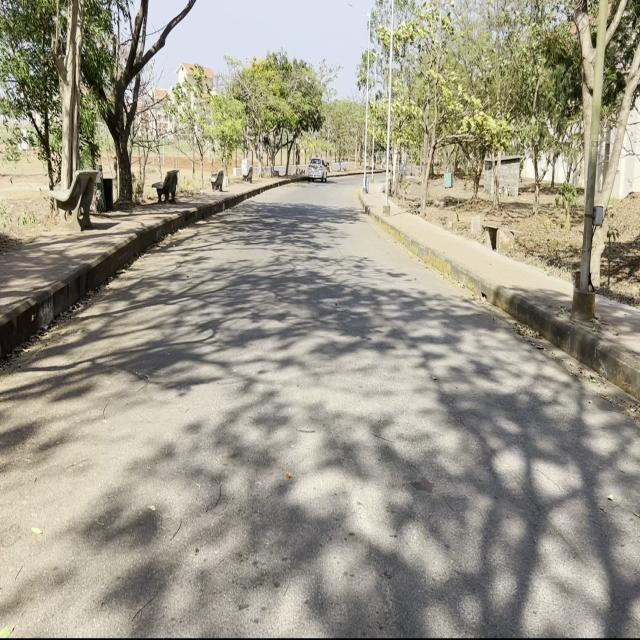Object: (307, 152, 334, 194)
Road: (4, 178, 635, 630)
